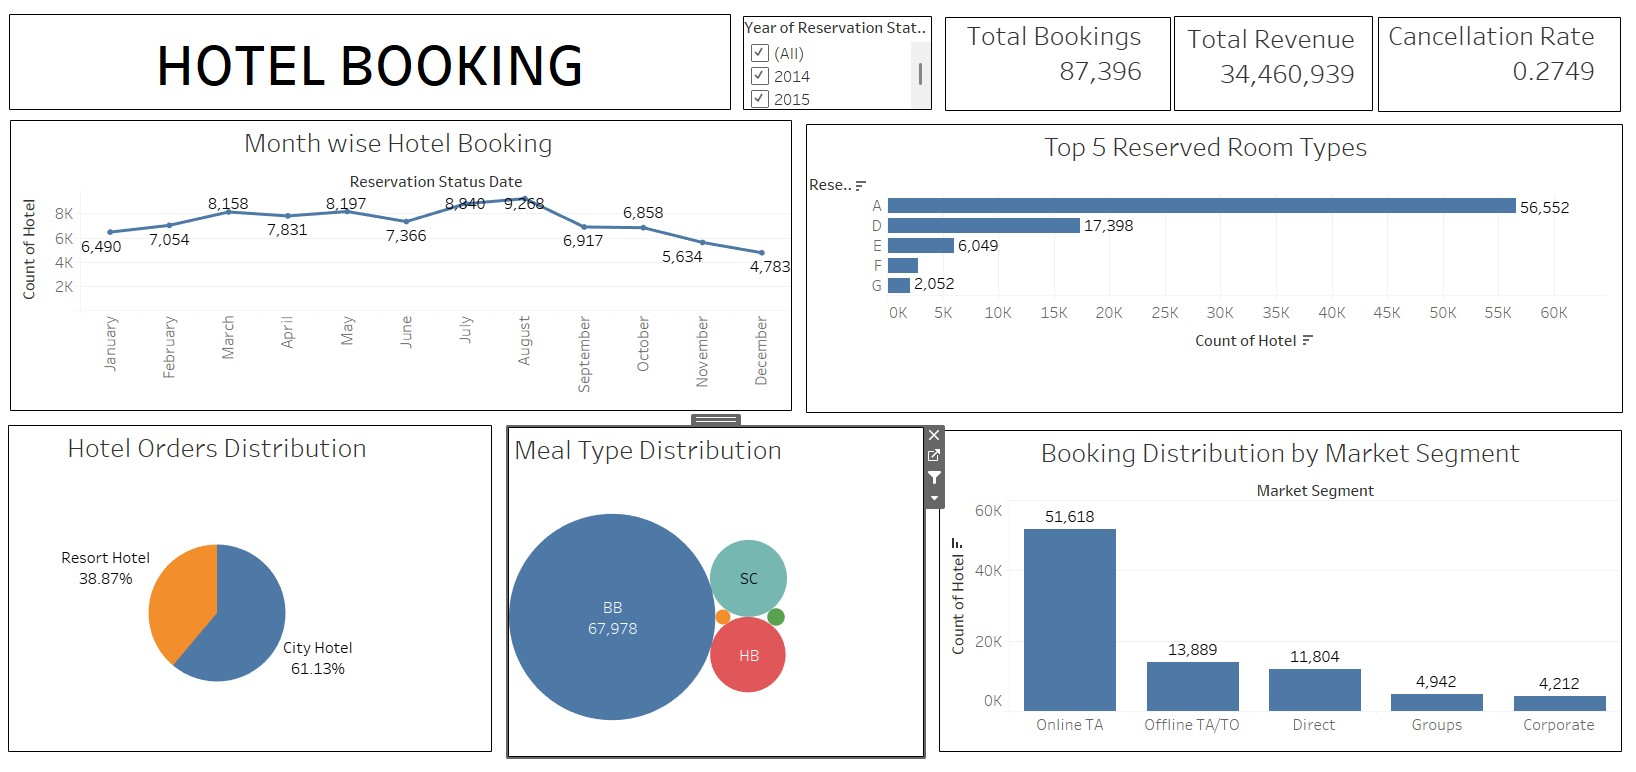

What the dashboard file says about the page in this screenshot:
{"tool":"tableau","page":{"name":"Hotel","canvas":[1000,1000],"units":"permille","ordinal":1},"visuals":[{"type":"text","box":[10.7,35,435.6,119.9]},{"type":"filter","title":"10","param":"[federated.1exbu4f0g7uenq13xwq2b13fh9a1].[yr:reservation_status_date:ok]","box":[453.9,37.5,114.3,117.4]},{"type":"worksheet","title":"KPI_1","mark":"Automatic","box":[575.7,38.7,136.4,117.4]},{"type":"worksheet","title":"KPI_2","mark":"Automatic","box":[714.5,38.7,118.9,96.1]},{"type":"worksheet","title":"KPI_3","mark":"Automatic","box":[836.9,38.7,146.7,118.6]},{"type":"worksheet","title":"10","mark":"Line","rows":["hotel"],"cols":["reservation_status_date"],"box":[11.5,167.3,471.9,363.3]},{"type":"worksheet","title":"6","mark":"Automatic","rows":["reserved_room_type"],"cols":["hotel"],"box":[491.9,172.3,493.1,360.8]},{"type":"worksheet","title":"4","mark":"Pie","box":[10.1,548.1,292.4,408.2]},{"type":"worksheet","title":"3","mark":"Circle","box":[312,550.6,251.1,412]},{"type":"worksheet","title":"2","mark":"Automatic","rows":["hotel"],"cols":["market_segment"],"box":[572.1,554.3,412.2,402]}]}

Visuals, with their boxes on the dashboard's canvas, which has no fixed pixel size, in thousandths of its width and height (x1, y1, x2, y2). These are canvas units, not pixel positions in the 1636x772 screenshot, which may show the page scaled, cropped or inside an application window:
text: left=11, top=35, right=446, bottom=155
"10" filter: left=454, top=38, right=568, bottom=155
"KPI_1" worksheet: left=576, top=39, right=712, bottom=156
"KPI_2" worksheet: left=714, top=39, right=833, bottom=135
"KPI_3" worksheet: left=837, top=39, right=984, bottom=157
"10" worksheet (Line marks): left=12, top=167, right=483, bottom=531
"6" worksheet: left=492, top=172, right=985, bottom=533
"4" worksheet (Pie marks): left=10, top=548, right=302, bottom=956
"3" worksheet (Circle marks): left=312, top=551, right=563, bottom=963
"2" worksheet: left=572, top=554, right=984, bottom=956
